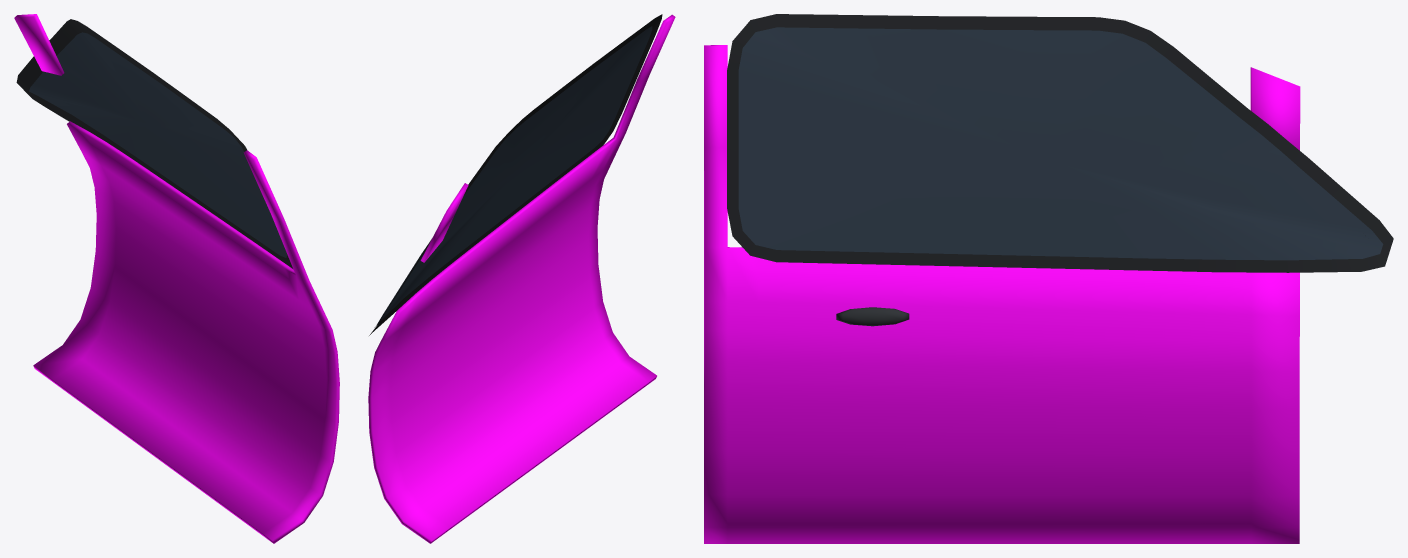
File: car-door-hatch.obj
3 views of the same model, side by side, from view 1: azimuth 30°, elevation 25°; view 2: azimuth 150°, elevation 25°; view 3: azimuth 270°, elevation 25° (orthographic). The views are drawn at different scales.
Parts seen in each view (by area): view 1: door, door_win_front.1.nocast, door_frame.win_front.1.nocast; view 2: door, door_win_front.1.nocast, door_frame.win_front.1.nocast; view 3: door, door_win_front.1.nocast, door_frame.win_front.1.nocast, door.handle.nocast.
Boxes of the visible parts, left/top/right/bottom form: door: left=14, top=14, right=339, bottom=543; door_win_front.1.nocast: left=29, top=32, right=287, bottom=257; door_frame.win_front.1.nocast: left=16, top=19, right=292, bottom=268; door: left=368, top=14, right=675, bottom=543; door_win_front.1.nocast: left=374, top=26, right=652, bottom=327; door_frame.win_front.1.nocast: left=369, top=14, right=662, bottom=335; door: left=704, top=45, right=1300, bottom=543; door_win_front.1.nocast: left=738, top=27, right=1383, bottom=260; door_frame.win_front.1.nocast: left=727, top=14, right=1393, bottom=272; door.handle.nocast: left=836, top=307, right=909, bottom=326.
Bounding box in the file's own units: 0.2825 × 1.18 × 1.44.
